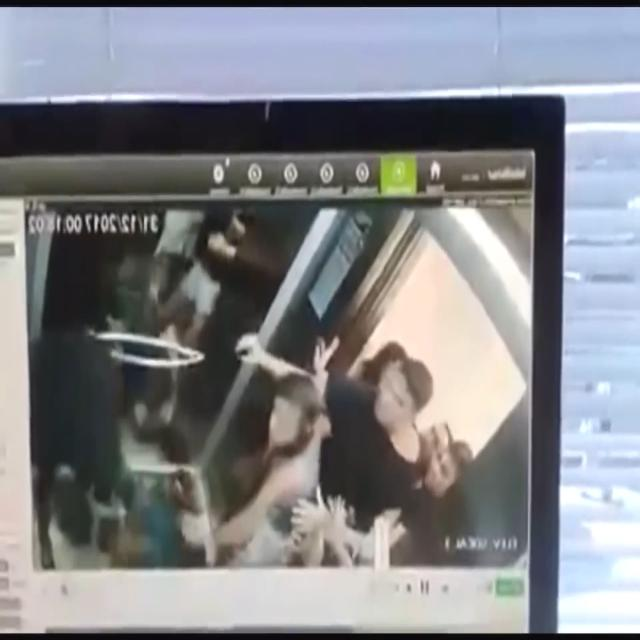fight: (246, 348, 432, 504)
